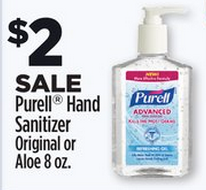Sanitizer: (109, 4, 199, 182)
